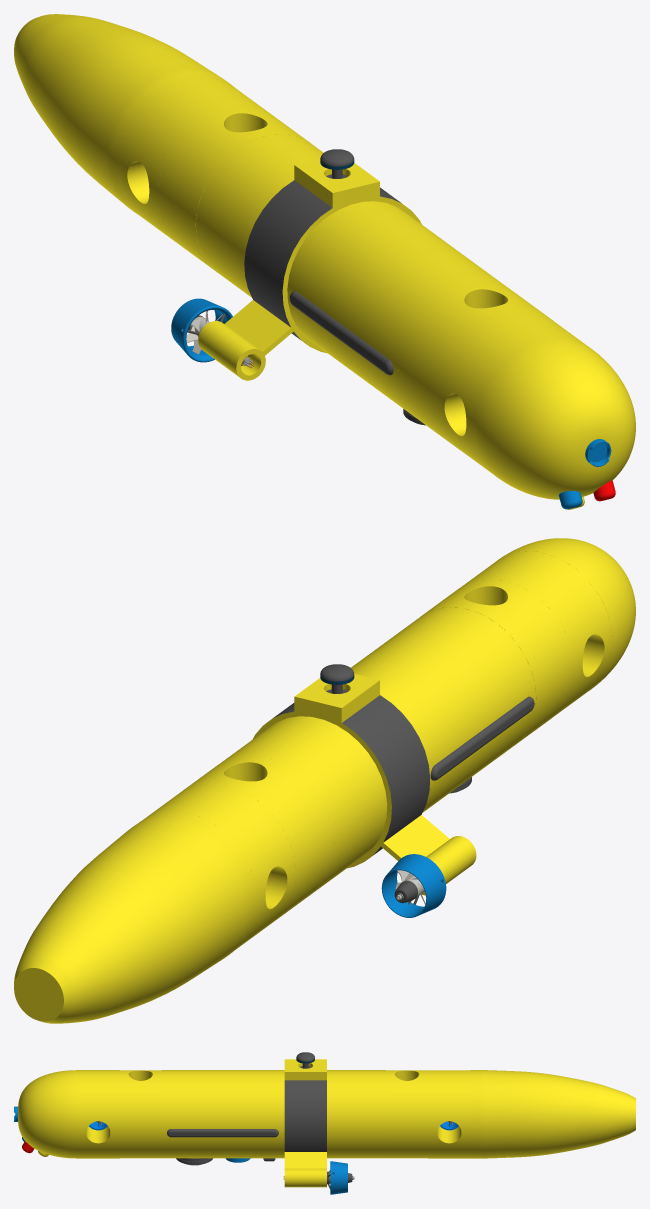
File: AUV.fbx
3 renders of one model, top to bottom at view 1: azimuth 30°, elevation 25°; view 2: azimuth 150°, elevation 25°; view 3: azimuth 270°, elevation 25°, orthographic. The views are drawn at different scales.
Parts seen in each view (by area): view 1: 3DGeom~526, Body_1_64, Body_1_66, Body_1_56, Body_1_48, Body_1_10, Body_1, 3DGeom~527, Body_1_46, Body_1_35; view 2: 3DGeom~526, Body_1_66, Body_1_48, Body_1_56, Body_1_10, Body_1, 3DGeom~527, Body_1_64, Body_1_35, Body_1_46; view 3: 3DGeom~526, Body_1_66, Body_1_64, Body_1_48, Body_1_56, Body_1_10, Body_1, 3DGeom~527, Body_1_47, Body_1_23.
Boxes of the visible parts, <box> form: 3DGeom~526: <box>195,134,510,420</box>; Body_1_64: <box>474,338,635,499</box>; Body_1_66: <box>14,14,233,215</box>; Body_1_56: <box>157,106,311,272</box>; Body_1_48: <box>398,282,548,447</box>; Body_1_10: <box>119,78,270,243</box>; Body_1: <box>436,310,586,472</box>; 3DGeom~527: <box>244,180,401,343</box>; Body_1_46: <box>289,291,393,375</box>; Body_1_35: <box>171,298,232,362</box>; 3DGeom~526: <box>221,607,536,895</box>; Body_1_66: <box>14,811,257,1023</box>; Body_1_48: <box>420,579,574,745</box>; Body_1_56: <box>183,755,333,920</box>; Body_1_10: <box>143,783,295,947</box>; Body_1: <box>462,551,612,714</box>; 3DGeom~527: <box>273,695,430,855</box>; Body_1_64: <box>500,538,635,689</box>; Body_1_35: <box>381,854,446,917</box>; Body_1_46: <box>430,696,534,780</box>; 3DGeom~526: <box>162,1059,385,1187</box>; Body_1_66: <box>470,1070,635,1158</box>; Body_1_64: <box>18,1070,77,1158</box>; Body_1_48: <box>119,1070,161,1158</box>; Body_1_56: <box>386,1070,428,1158</box>; Body_1_10: <box>428,1070,470,1158</box>; Body_1: <box>77,1070,119,1158</box>; 3DGeom~527: <box>284,1080,326,1151</box>; Body_1_47: <box>167,1129,278,1137</box>; Body_1_23: <box>330,1161,347,1194</box>.
Size of the model in its own units: 0.5559 by 2.05 by 0.4037.
